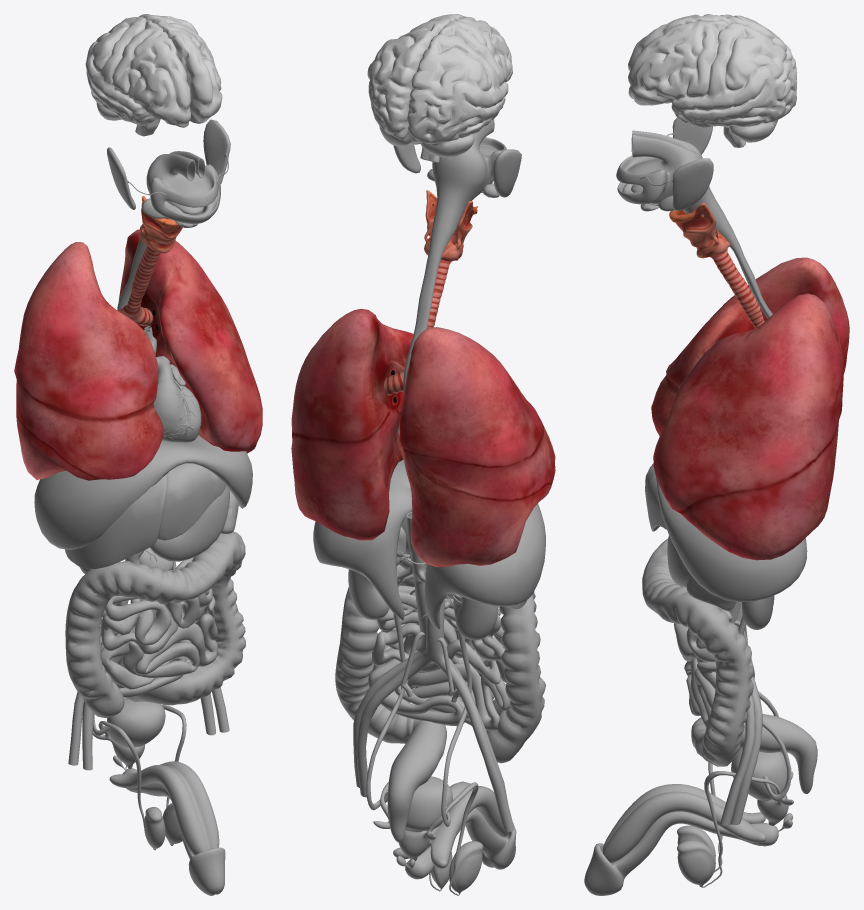
File: human organ system.fbx
3 views of the same model, side by side, from view 1: azimuth 30°, elevation 25°; view 2: azimuth 150°, elevation 25°; view 3: azimuth 270°, elevation 25° (orthographic). The views are drawn at different scales.
Visible parts, largest first — view 1: lungs, digestive_system, kidney, diaphragm, brain_right, brain_left, heart; view 2: lungs, digestive_system, kidney, diaphragm, brain_right, brain_left; view 3: lungs, digestive_system, kidney, brain_left, diaphragm, brain_right.
Part boxes in pixels (x1,y1,x2,y2): lungs: [14, 196, 262, 480]; digestive_system: [65, 119, 245, 718]; kidney: [68, 561, 229, 895]; diaphragm: [34, 435, 252, 550]; brain_right: [85, 17, 190, 136]; brain_left: [138, 14, 222, 135]; heart: [144, 326, 201, 442]; lungs: [291, 190, 555, 566]; digestive_system: [335, 119, 545, 842]; kidney: [348, 512, 516, 895]; diaphragm: [313, 460, 545, 629]; brain_right: [407, 16, 512, 162]; brain_left: [367, 14, 465, 160]; lungs: [651, 203, 849, 560]; digestive_system: [616, 117, 817, 793]; kidney: [584, 595, 793, 895]; brain_left: [628, 20, 796, 147]; diaphragm: [656, 478, 807, 602]; brain_right: [628, 14, 797, 85].
Size of the model in its own units: 27.12 by 99.47 by 27.32.
